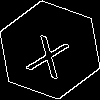X: (25, 25, 76, 80)
